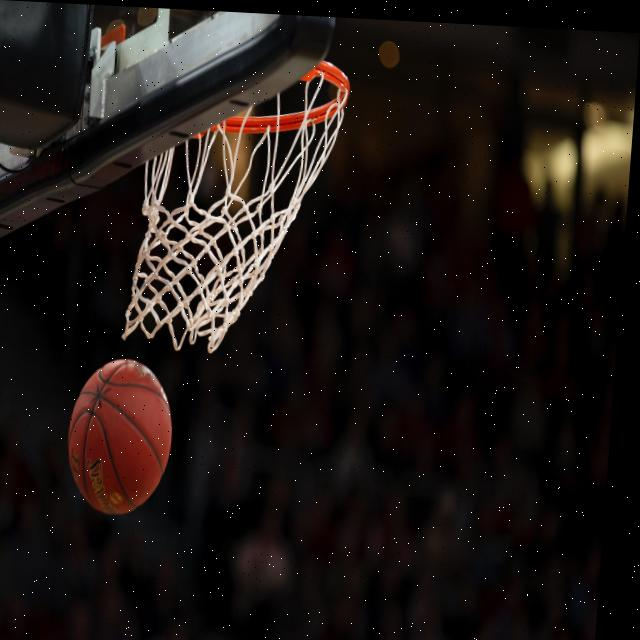basketball: (63, 356, 179, 519)
hoop: (115, 44, 355, 368)
